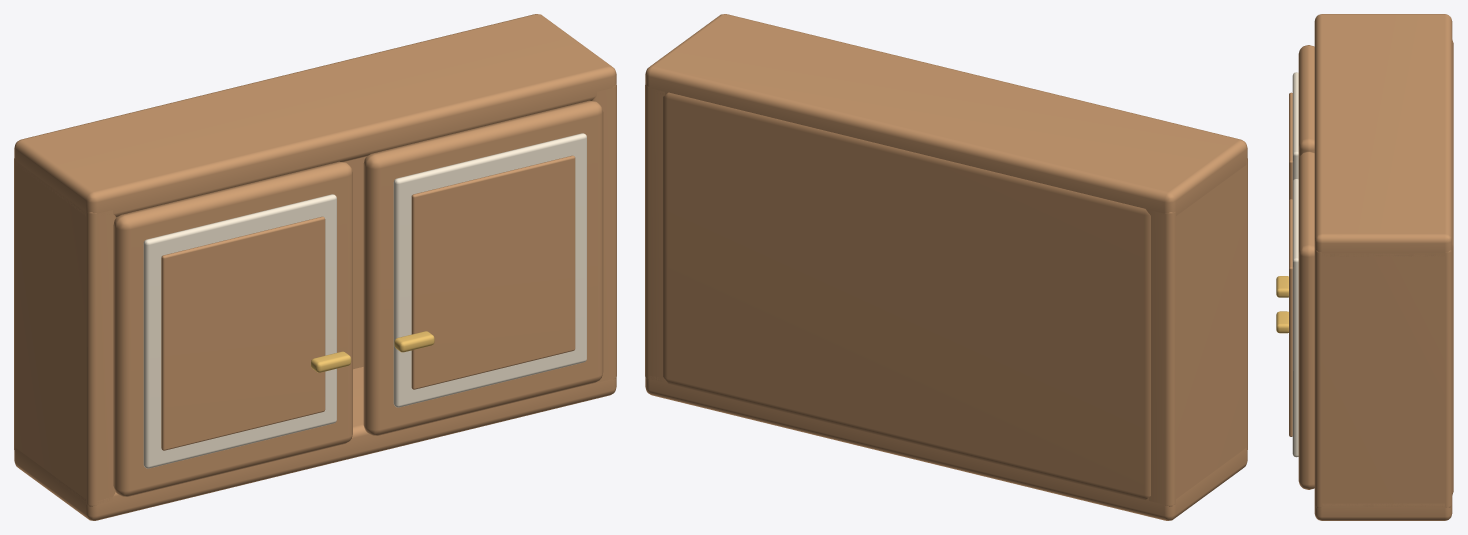
File: kitchenWallCabinetOak.glb
3 renders of one model, left to right at view 1: azimuth 30°, elevation 25°; view 2: azimuth 150°, elevation 25°; view 3: azimuth 270°, elevation 25°, orthographic. The views are drawn at different scales.
Visible parts, largest first — view 1: Cabinet top and bottom.001, Inset oak door panel, Inset oak door panel.001, Cabinet side, Wall cabinet door.001, Wall cabinet door, Oak door panel border, Oak door panel border.001, Cabinet top and bottom, Cabinet side.001, Cabinet back; view 2: Cabinet back, Cabinet top and bottom.001, Cabinet side, Cabinet top and bottom, Cabinet side.001; view 3: Cabinet side.001, Cabinet top and bottom.001, Wall cabinet door.001, Cabinet top and bottom, Oak door panel border.001, Wall cabinet door, Inset oak door panel.001, Cabinet back, Oak door panel border, Inset oak door panel, Cabinet handle.001, Cabinet handle.
Part boxes in pixels (x1,y1,x2,y2): Cabinet top and bottom.001: (14,14,616,217); Inset oak door panel: (161,216,325,450); Inset oak door panel.001: (411,155,575,389); Cabinet side: (14,158,116,506); Wall cabinet door.001: (363,100,603,435); Wall cabinet door: (113,161,352,496); Oak door panel border: (143,194,336,468); Oak door panel border.001: (393,133,586,407); Cabinet top and bottom: (14,367,616,520); Cabinet side.001: (592,83,616,382); Cabinet back: (344,156,366,369); Cabinet back: (663,92,1150,500); Cabinet top and bottom.001: (645,14,1247,215); Cabinet side: (1149,158,1247,506); Cabinet top and bottom: (645,376,1247,520); Cabinet side.001: (645,83,664,382); Cabinet side.001: (1314,250,1452,507); Cabinet top and bottom.001: (1314,14,1452,256); Wall cabinet door.001: (1298,151,1314,489); Cabinet top and bottom: (1314,503,1452,520); Oak door panel border.001: (1292,179,1298,457); Wall cabinet door: (1298,45,1314,159); Inset oak door panel.001: (1289,199,1292,436); Cabinet back: (1452,40,1453,494); Oak door panel border: (1292,72,1298,181); Inset oak door panel: (1289,92,1292,200); Cabinet handle.001: (1276,311,1288,333); Cabinet handle: (1276,276,1288,297).
Bounding box in the file's own units: 1.82 × 1.08 × 0.606.
